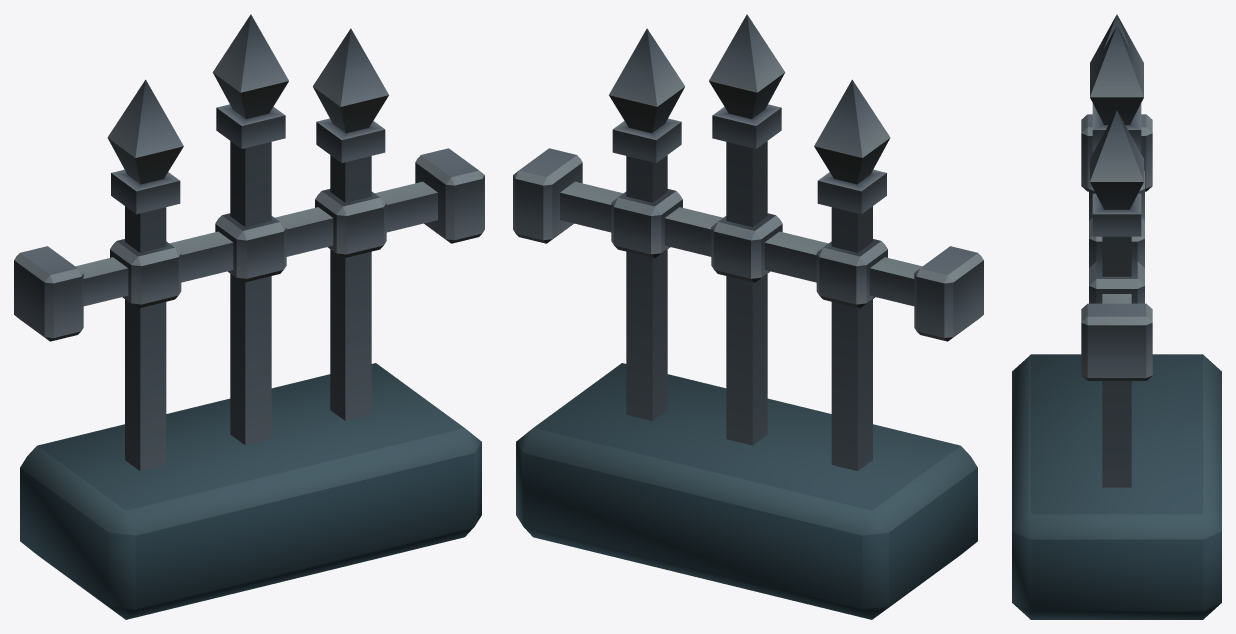
The model's file is fence_element_2.fbx.
3 views of the same model, side by side, from view 1: azimuth 30°, elevation 25°; view 2: azimuth 150°, elevation 25°; view 3: azimuth 270°, elevation 25° (orthographic). The views are drawn at different scales.
Parts seen in each view (by area): view 1: fence_element_2; view 2: fence_element_2; view 3: fence_element_2.
Part boxes in pixels (x1=…): fence_element_2: x1=14, y1=14, x2=484, y2=619; fence_element_2: x1=513, y1=14, x2=983, y2=619; fence_element_2: x1=1012, y1=14, x2=1221, y2=619.
Bounding box in the file's own units: 155 × 179 × 66.3.
